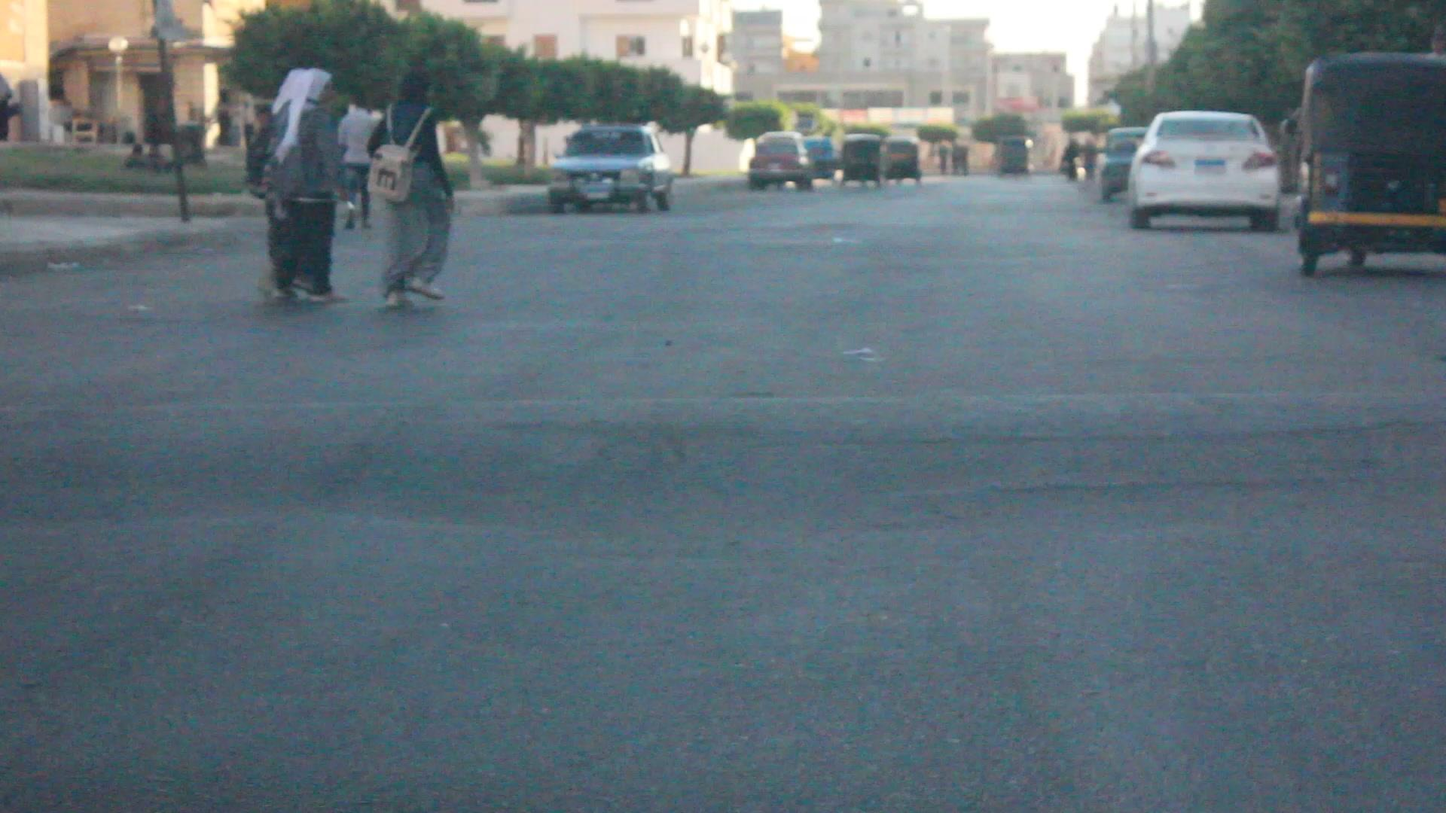Bump: (0, 376, 1445, 508)
